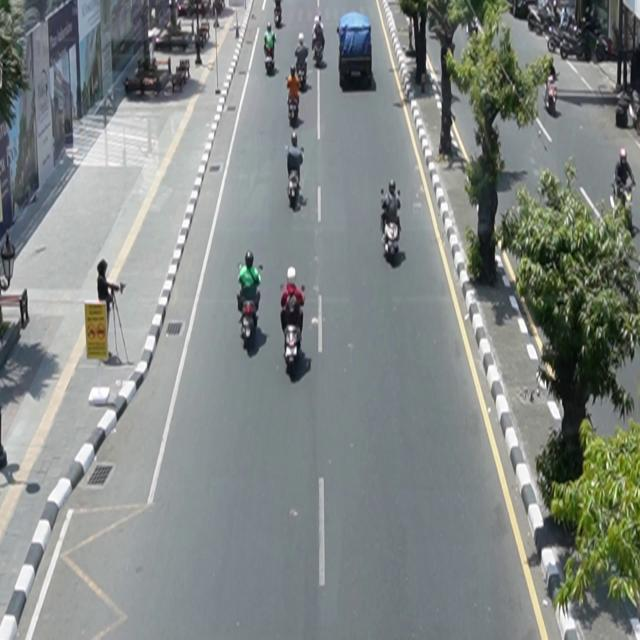truck: (338, 12, 373, 88)
